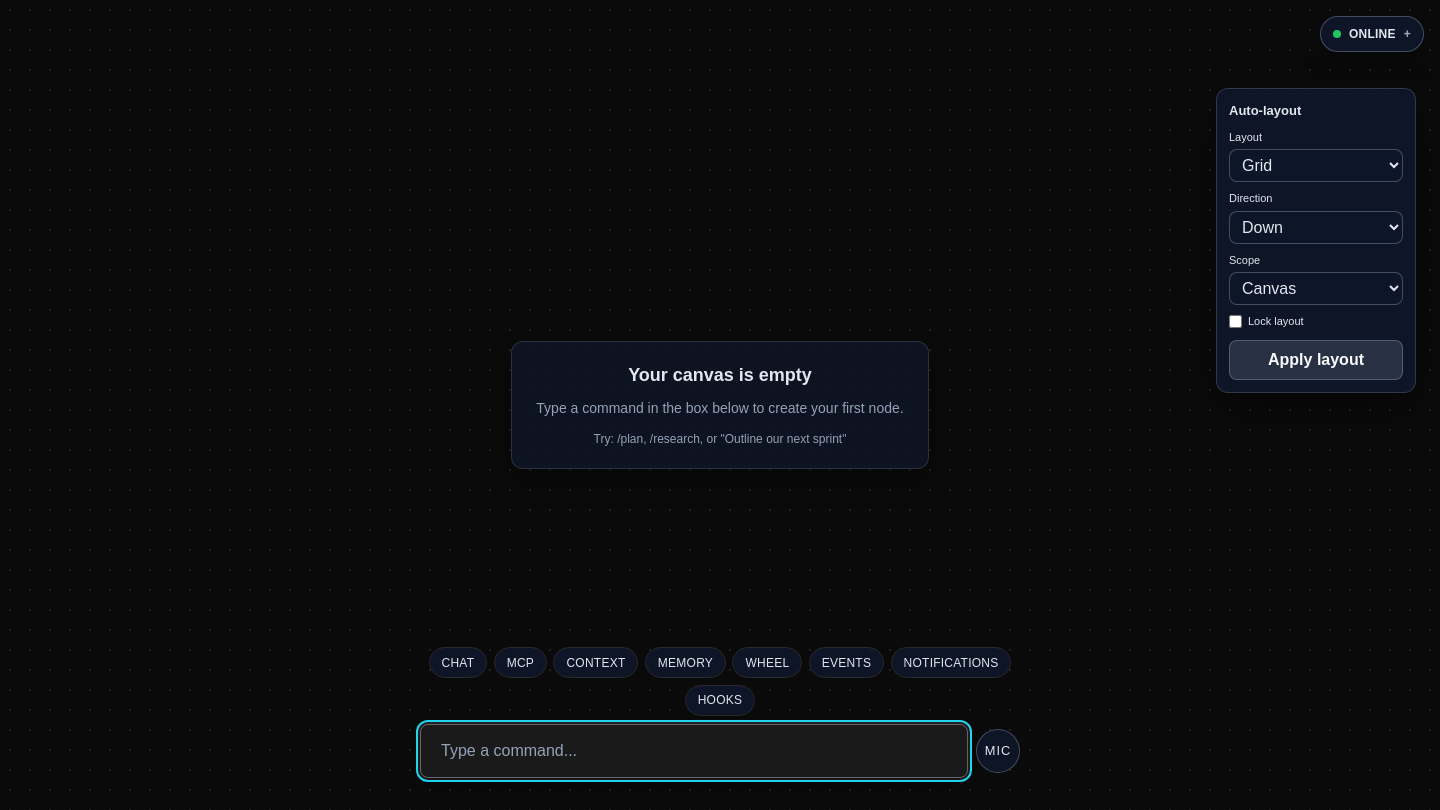
Scenario: workspace canvas › closes view panels when the close-all command is submitted
Click the button "Chat" at (458, 663), box [428, 647, 487, 678]
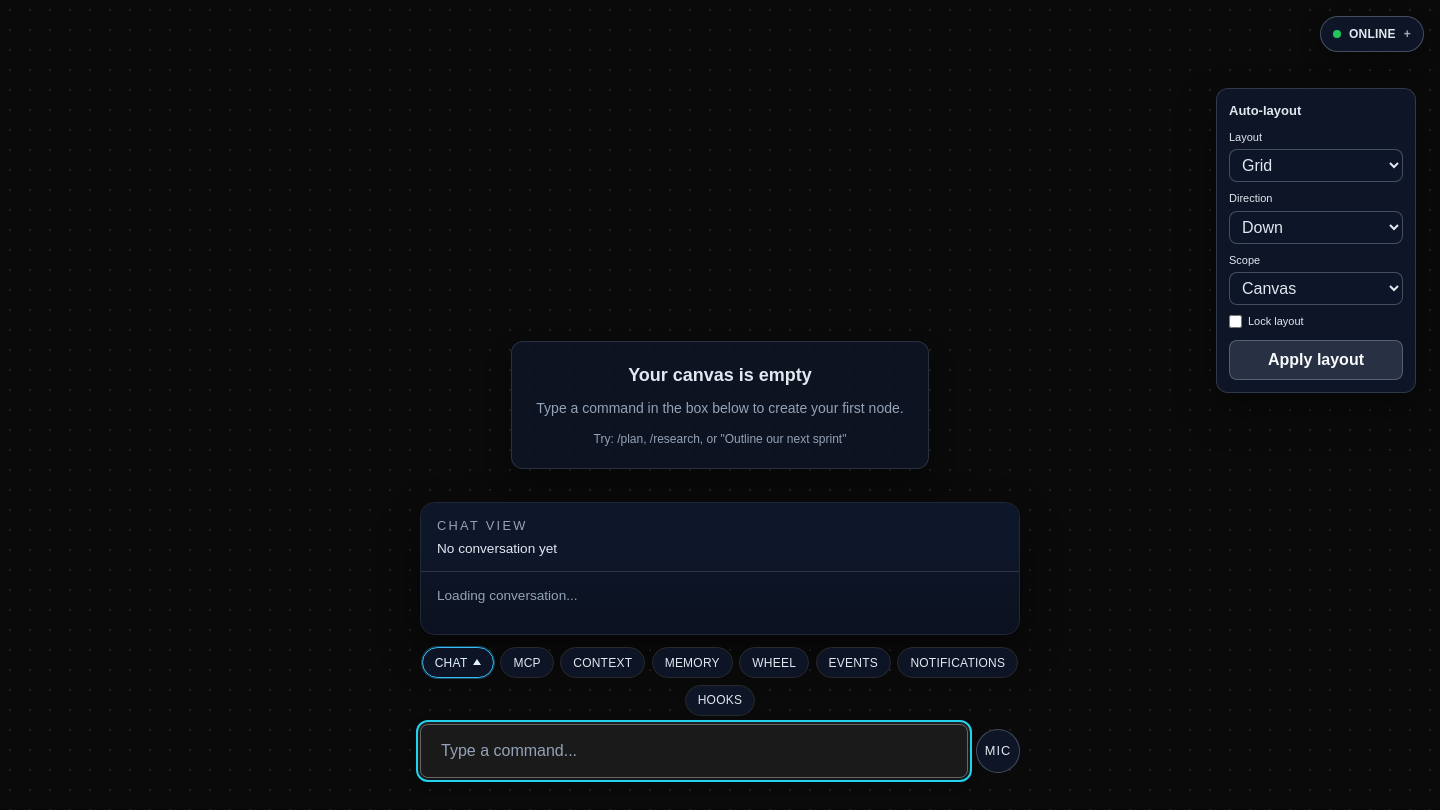
expect the text "Chat View" is shown: met, box [437, 518, 528, 534]
Type "close all panels" into the field named "command input" at (694, 751), box [420, 724, 968, 778]
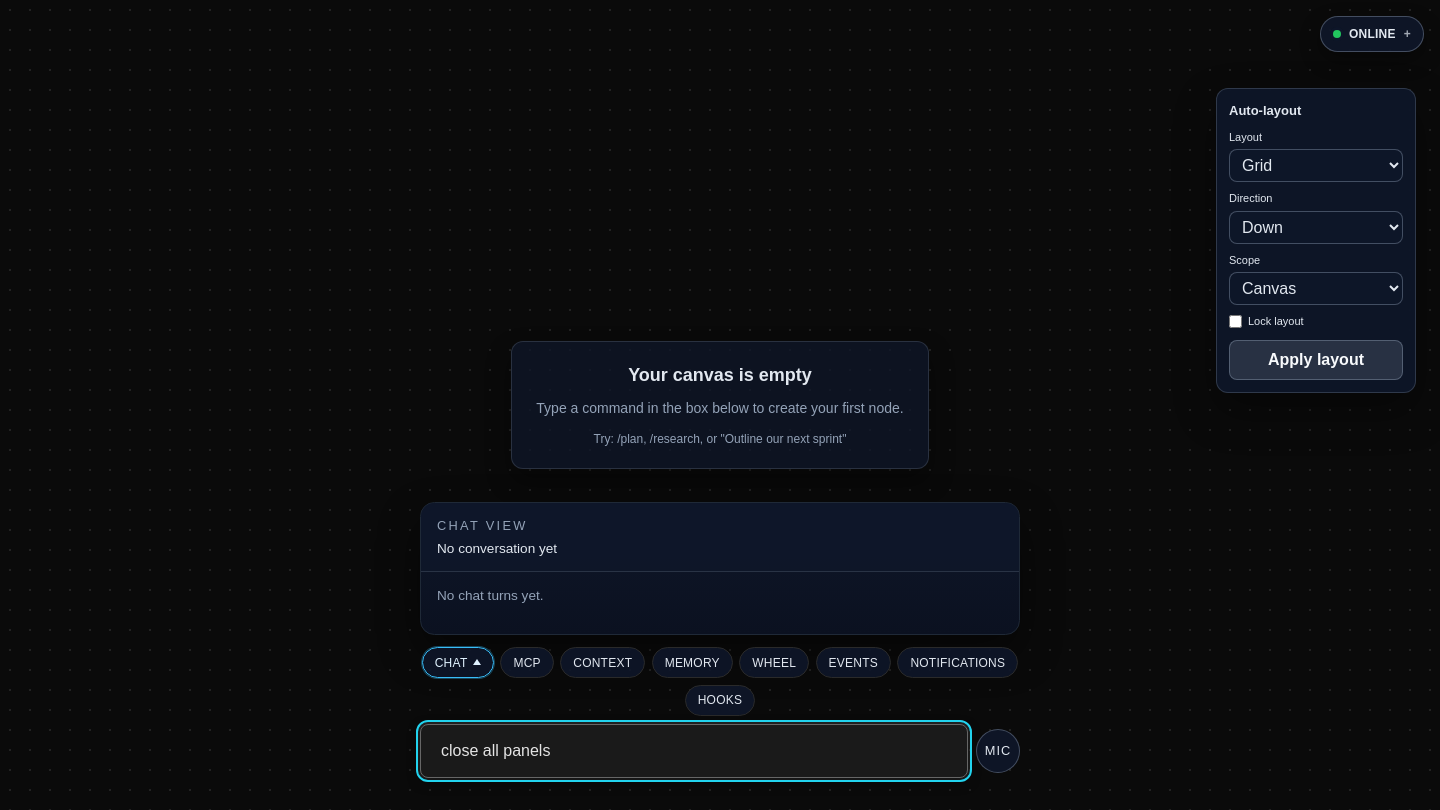
Press Enter in the field named "command input", box [420, 724, 968, 778]
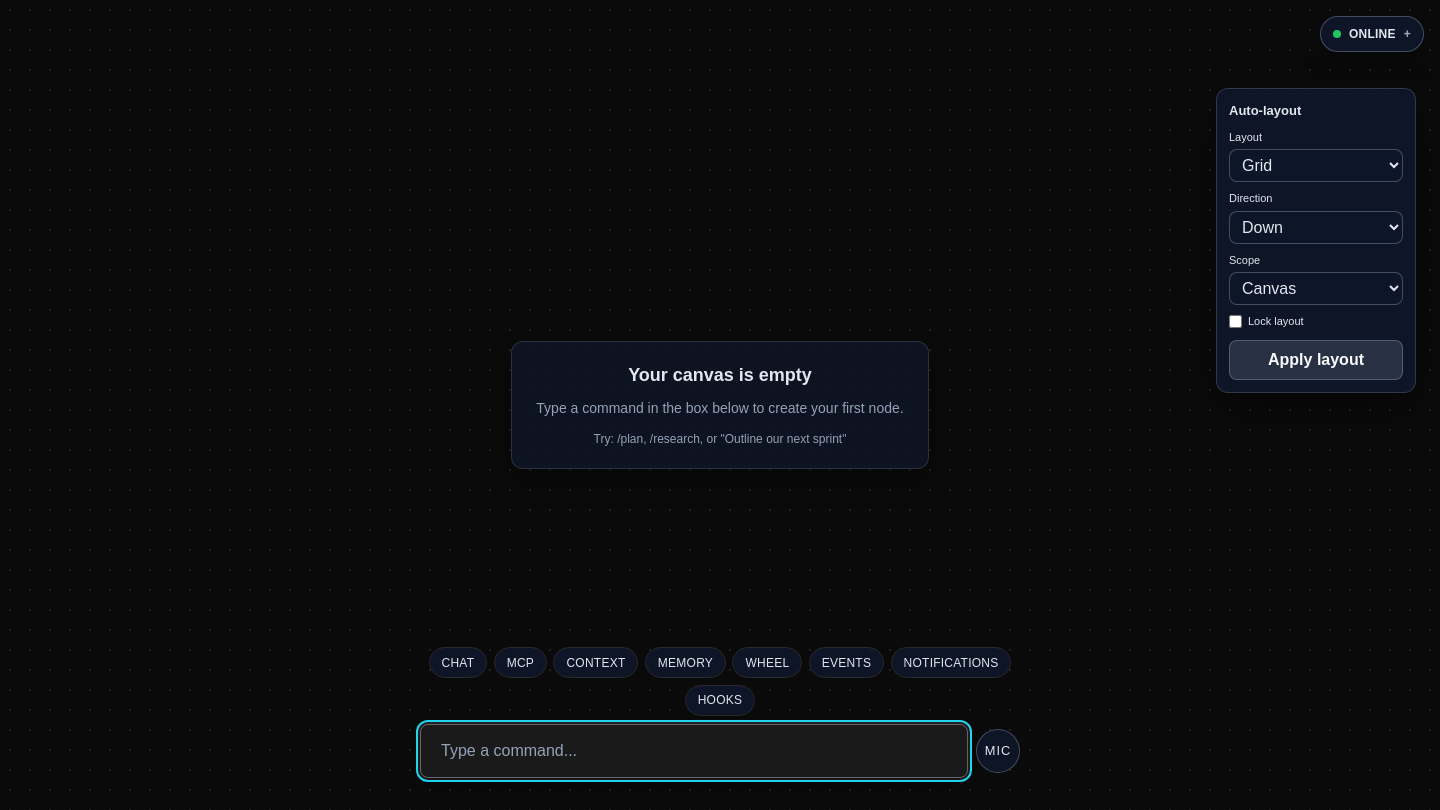
expect the text "Chat View" is gone: met
